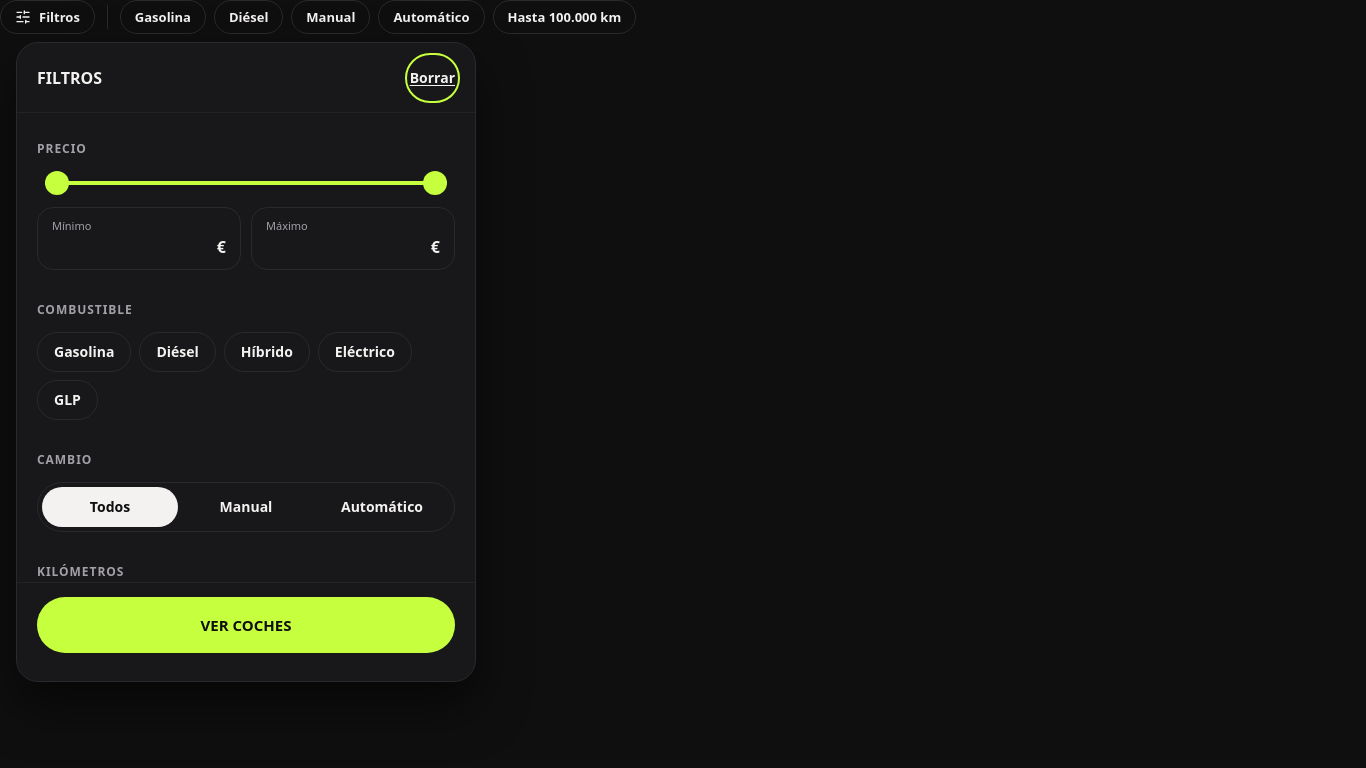
Test case: MAPUI-19: FilterRow — the dropdown closes without a close button › MAPUI-19: a press outside closes the dropdown
expect the dialog "FILTROS" is shown: met, box [16, 42, 476, 682]
Click the element that starts with "Filtros" at (683, 384), box [0, 0, 1365, 767]
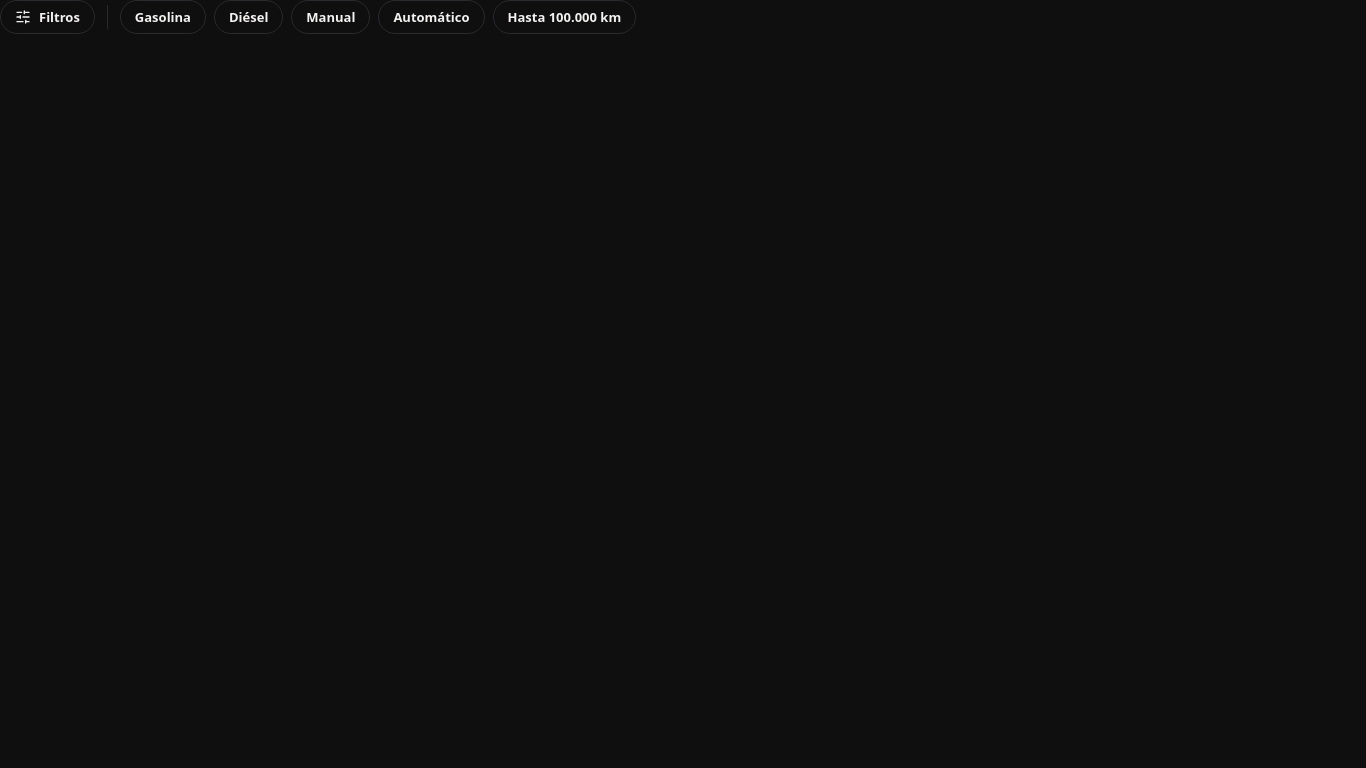
expect the dialog is gone: met
